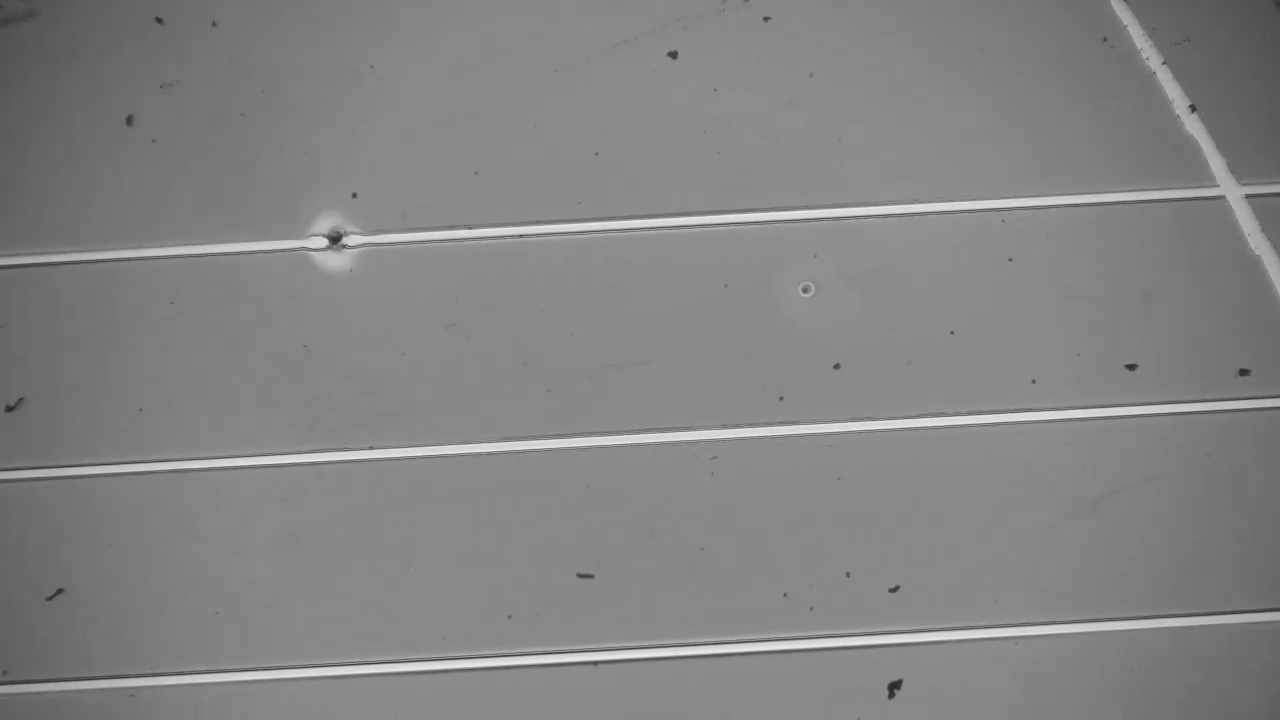stains_enbedded: (319, 215, 361, 266)
